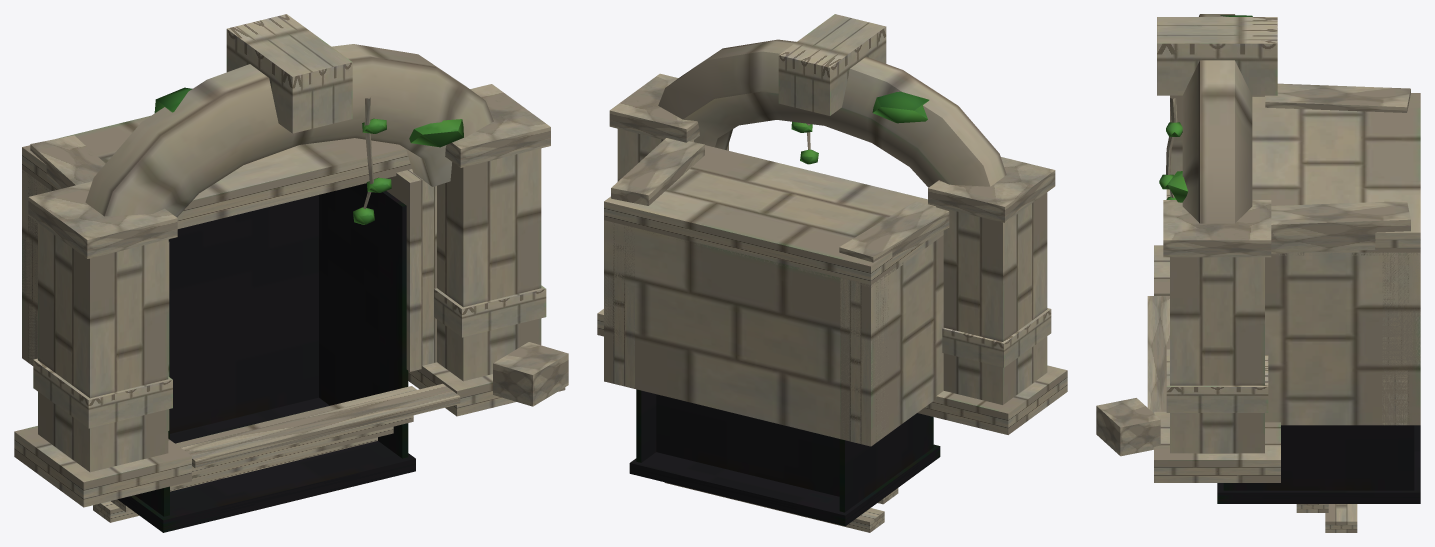
The model's file is ruin_arch.glb.
The picture shows the model from 3 angles, left to right: view 1: azimuth 30°, elevation 25°; view 2: azimuth 150°, elevation 25°; view 3: azimuth 270°, elevation 25°; orthographic projection. The views are drawn at different scales.
Parts seen in each view (by area): view 1: ruin_arch; view 2: ruin_arch; view 3: ruin_arch.
Part boxes in pixels (x1,y1,x2,y2): ruin_arch: (14, 14, 568, 532); ruin_arch: (597, 14, 1067, 532); ruin_arch: (1096, 14, 1420, 532).
Size of the model in its own units: 8 by 7.8 by 5.11.
2 materials, 2 textured.
